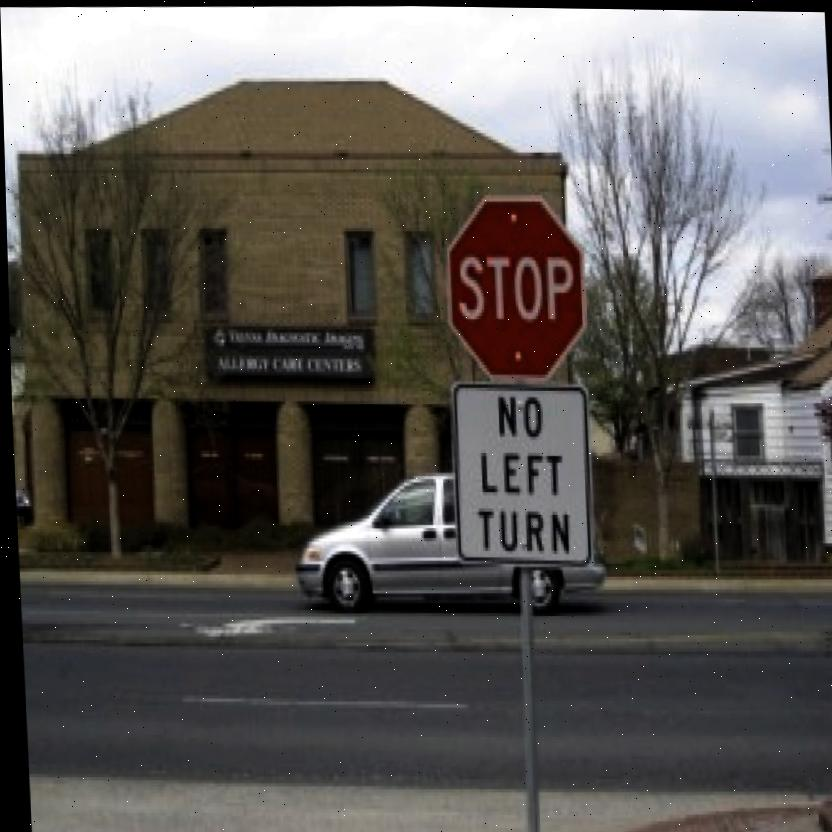Pole: (513, 566, 534, 832)
Sign: (441, 192, 585, 385)
